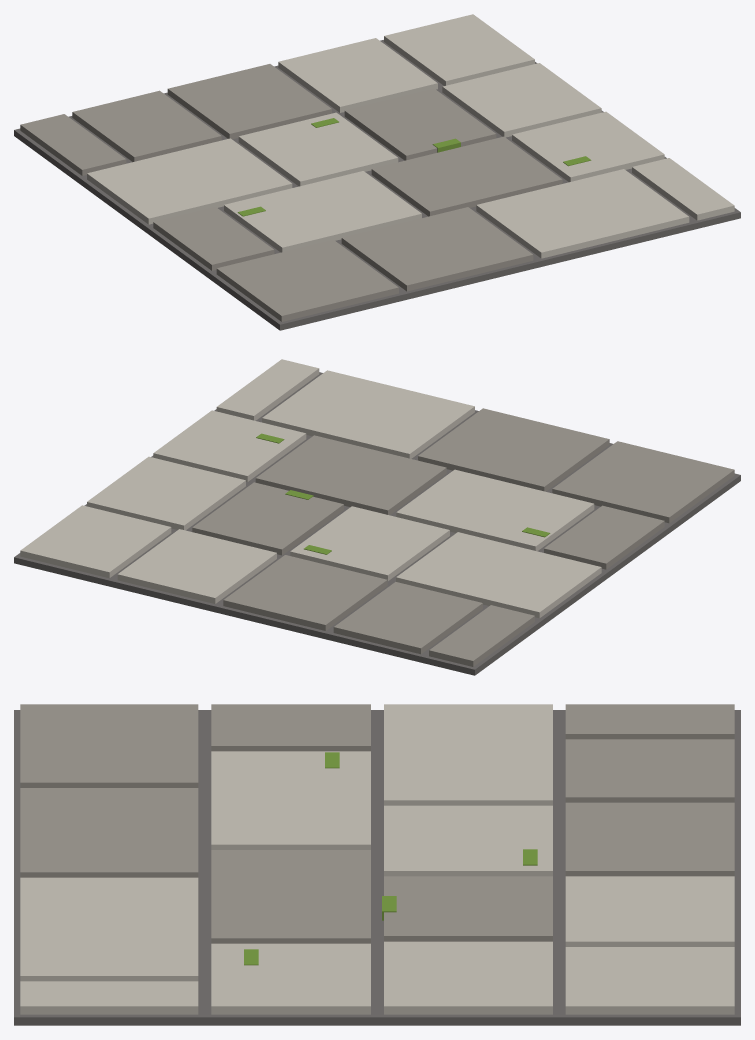
Rendered from L_MedTileFlagstone.fbx.
The picture shows the model from 3 angles, top to bottom: view 1: azimuth 30°, elevation 25°; view 2: azimuth 150°, elevation 25°; view 3: azimuth 270°, elevation 25°; orthographic projection. The views are drawn at different scales.
Visible parts, largest first — view 1: M_TileFlagstone; view 2: M_TileFlagstone; view 3: M_TileFlagstone.
Part boxes in pixels (x1,y1,x2,y2): M_TileFlagstone: [14, 14, 740, 330]; M_TileFlagstone: [14, 359, 740, 675]; M_TileFlagstone: [14, 704, 740, 1025].
Size of the model in its own units: 4 by 0.105 by 4.
1 material, 1 textured.
